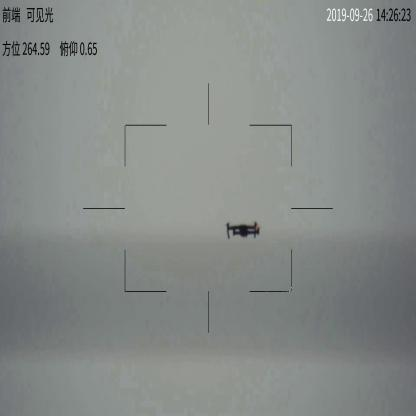uav: (217, 220, 267, 240)
